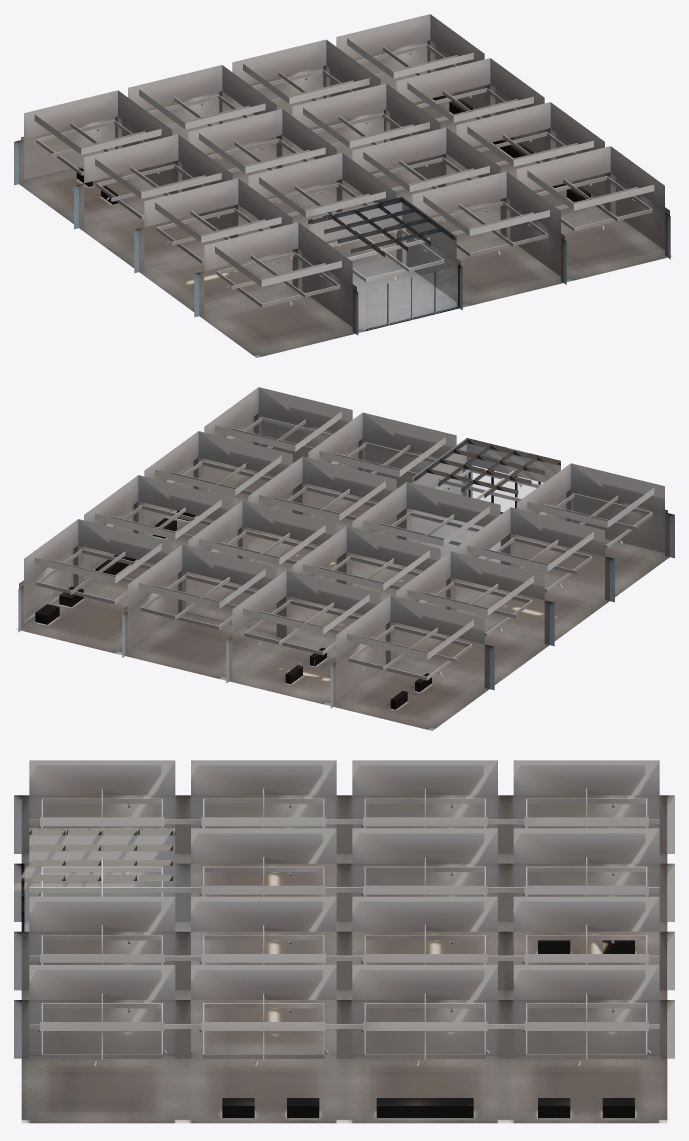
The picture shows the model from 3 angles, top to bottom: view 1: azimuth 30°, elevation 25°; view 2: azimuth 150°, elevation 25°; view 3: azimuth 270°, elevation 25°; orthographic projection. The views are drawn at different scales.
Visible parts, largest first — view 1: walls, floor, ceiling, glass, windows, post; view 2: walls, floor, ceiling, windows, post, glass; view 3: walls, floor, ceiling, post, windows.
Boxes of the visible parts, <box> form: walls: <box>14,14,670,335</box>; floor: <box>19,41,672,357</box>; ceiling: <box>34,38,654,307</box>; glass: <box>366,267,457,328</box>; windows: <box>311,198,458,329</box>; post: <box>76,95,590,204</box>; walls: <box>18,387,674,708</box>; floor: <box>16,414,669,730</box>; ceiling: <box>34,411,654,680</box>; windows: <box>415,439,558,513</box>; post: <box>35,510,431,709</box>; glass: <box>470,465,542,512</box>; walls: <box>14,760,674,1058</box>; floor: <box>21,795,667,1123</box>; ceiling: <box>29,788,659,1065</box>; post: <box>222,940,634,1118</box>; windows: <box>21,829,172,931</box>.
Bounding box in the file's own units: 51.2 × 8 × 51.2.
6 materials, 6 textured.
